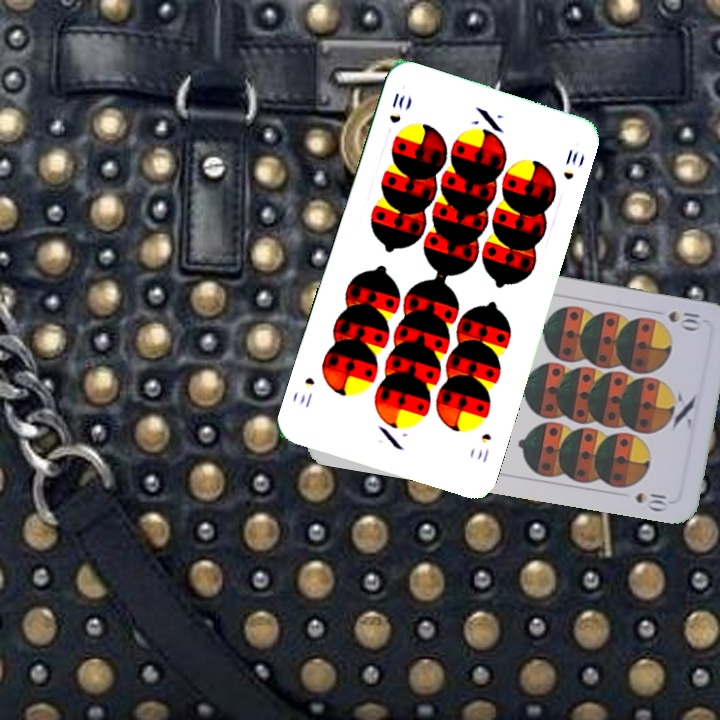S10: (664, 307, 702, 331), (385, 89, 408, 126), (473, 429, 494, 466)
